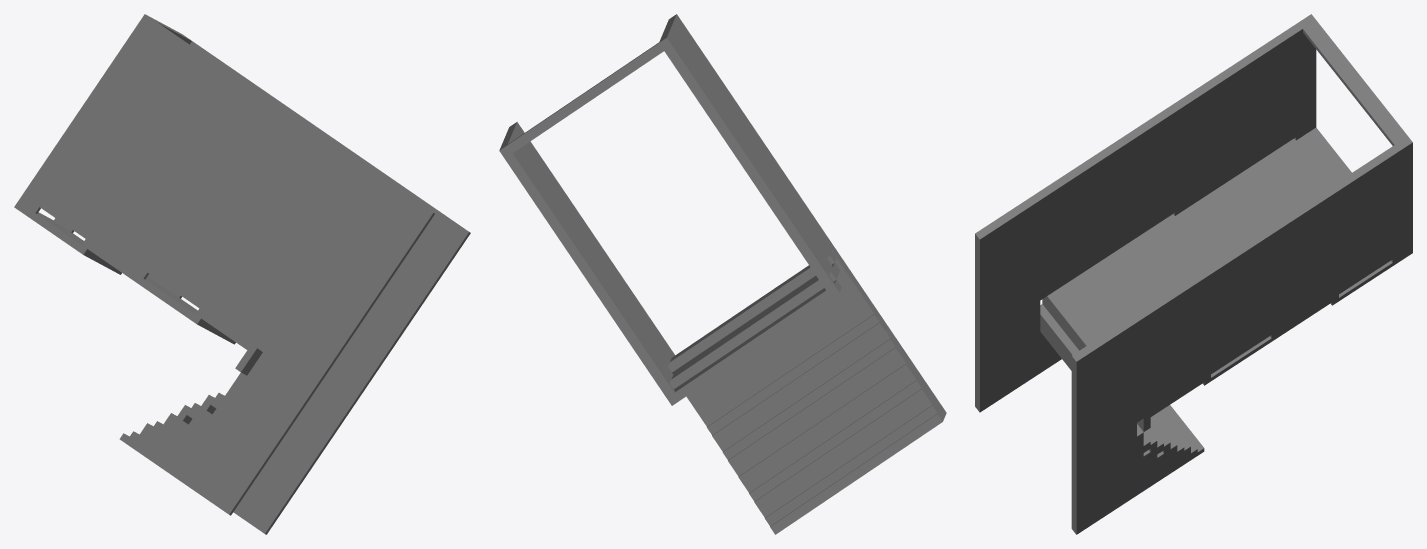
File: tile_3_1.glb
3 renders of one model, left to right at view 1: azimuth 30°, elevation 25°; view 2: azimuth 150°, elevation 25°; view 3: azimuth 270°, elevation 25°, orthographic. The views are drawn at different scales.
Visible parts, largest first — view 1: universal_minecraft:terracotta:up, universal_minecraft:grass_block:up, universal_minecraft:stone_bricks:up, universal_minecraft:terracotta:north, universal_minecraft:grass_block:north, universal_minecraft:stone_bricks:north, universal_minecraft:stone_bricks:west; view 2: universal_minecraft:stone_bricks:south, universal_minecraft:terracotta:up, universal_minecraft:grass_block:up, universal_minecraft:stone_bricks:west, universal_minecraft:terracotta:south, universal_minecraft:grass_block:south; view 3: universal_minecraft:grass_block:down, universal_minecraft:terracotta:down, universal_minecraft:stone_bricks:west, universal_minecraft:grass_block:west, universal_minecraft:terracotta:west, universal_minecraft:stone_bricks:down, universal_minecraft:stone_bricks:north, universal_minecraft:grass_block:north, universal_minecraft:terracotta:north.
Part boxes in pixels (x1,y1,x2,y2): universal_minecraft:terracotta:up: [18, 20, 432, 514]; universal_minecraft:grass_block:up: [54, 41, 468, 533]; universal_minecraft:stone_bricks:up: [14, 14, 256, 446]; universal_minecraft:terracotta:north: [35, 207, 434, 515]; universal_minecraft:grass_block:north: [71, 230, 470, 534]; universal_minecraft:stone_bricks:north: [83, 23, 262, 424]; universal_minecraft:stone_bricks:west: [37, 15, 246, 436]; universal_minecraft:stone_bricks:south: [499, 38, 942, 534]; universal_minecraft:terracotta:up: [667, 14, 946, 420]; universal_minecraft:grass_block:up: [508, 122, 675, 392]; universal_minecraft:stone_bricks:west: [499, 37, 936, 526]; universal_minecraft:terracotta:south: [664, 46, 906, 362]; universal_minecraft:grass_block:south: [505, 153, 674, 397]; universal_minecraft:grass_block:down: [1076, 146, 1412, 534]; universal_minecraft:terracotta:down: [980, 29, 1316, 412]; universal_minecraft:stone_bricks:west: [1040, 14, 1412, 452]; universal_minecraft:grass_block:west: [1072, 145, 1398, 457]; universal_minecraft:terracotta:west: [975, 23, 1302, 239]; universal_minecraft:stone_bricks:down: [1137, 142, 1412, 460]; universal_minecraft:stone_bricks:north: [1040, 29, 1394, 452]; universal_minecraft:grass_block:north: [1071, 259, 1392, 534]; universal_minecraft:terracotta:north: [975, 137, 1295, 412].
Size of the model in its own units: 55.95 by 68.03 by 52.86.
18 materials, 18 textured.
